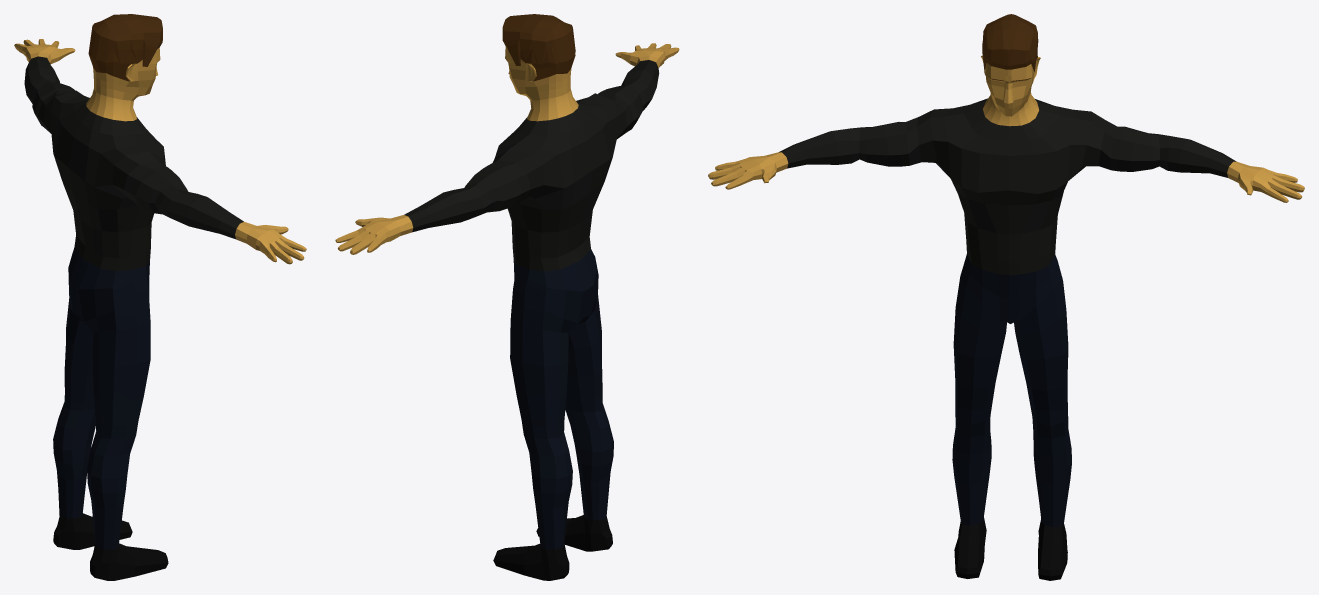
Rendered from SM_Student.fbx.
The picture shows the model from 3 angles, left to right: view 1: azimuth 30°, elevation 25°; view 2: azimuth 150°, elevation 25°; view 3: azimuth 270°, elevation 25°; orthographic projection. The views are drawn at different scales.
Parts seen in each view (by area): view 1: BlueJeans; view 2: BlueJeans; view 3: BlueJeans.
Part boxes in pixels (x1,y1,x2,y2): BlueJeans: [14, 14, 306, 580]; BlueJeans: [335, 14, 679, 580]; BlueJeans: [708, 14, 1304, 580].
Size of the model in its own units: 40.59 by 165 by 167.
